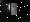person: (12, 4, 18, 16), (4, 4, 10, 13)
